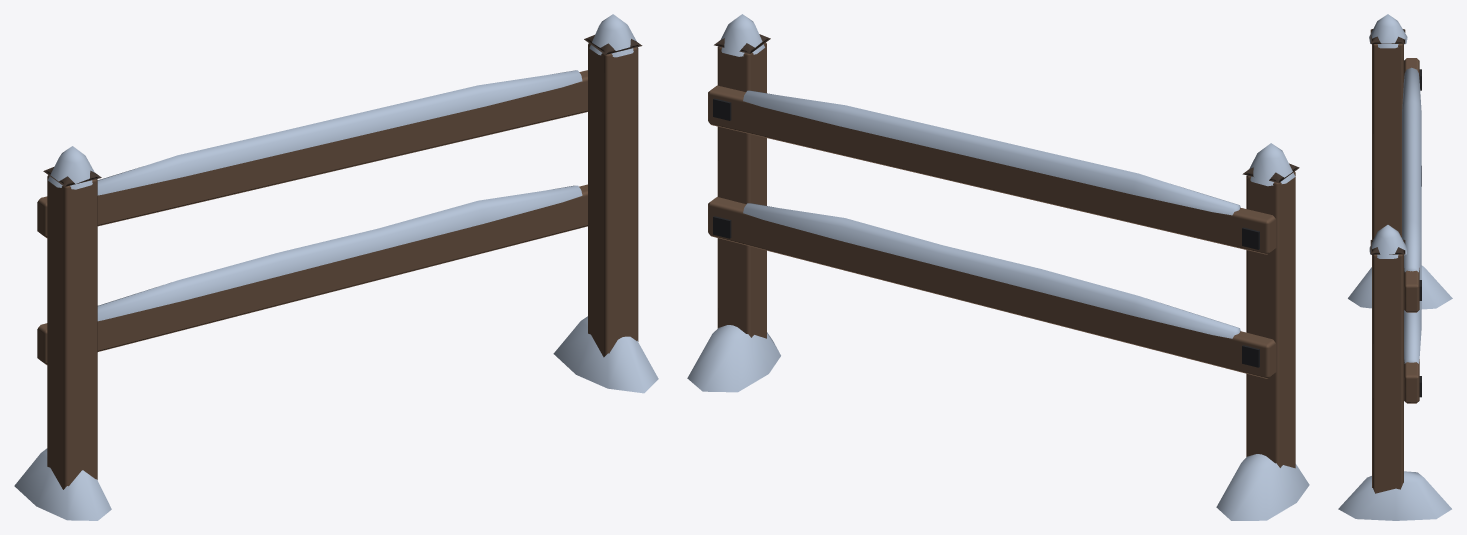
The model's file is fence.glb.
The picture shows the model from 3 angles, left to right: view 1: azimuth 30°, elevation 25°; view 2: azimuth 150°, elevation 25°; view 3: azimuth 270°, elevation 25°; orthographic projection. The views are drawn at different scales.
Visible parts, largest first — view 1: Fence; view 2: Fence; view 3: Fence.
Boxes of the visible parts, x1,y1,x2,y2 form: Fence: (14,14,658,520); Fence: (687,14,1309,520); Fence: (1338,14,1452,520).
Bounding box in the file's own units: 2.09 × 1.18 × 0.4336.
